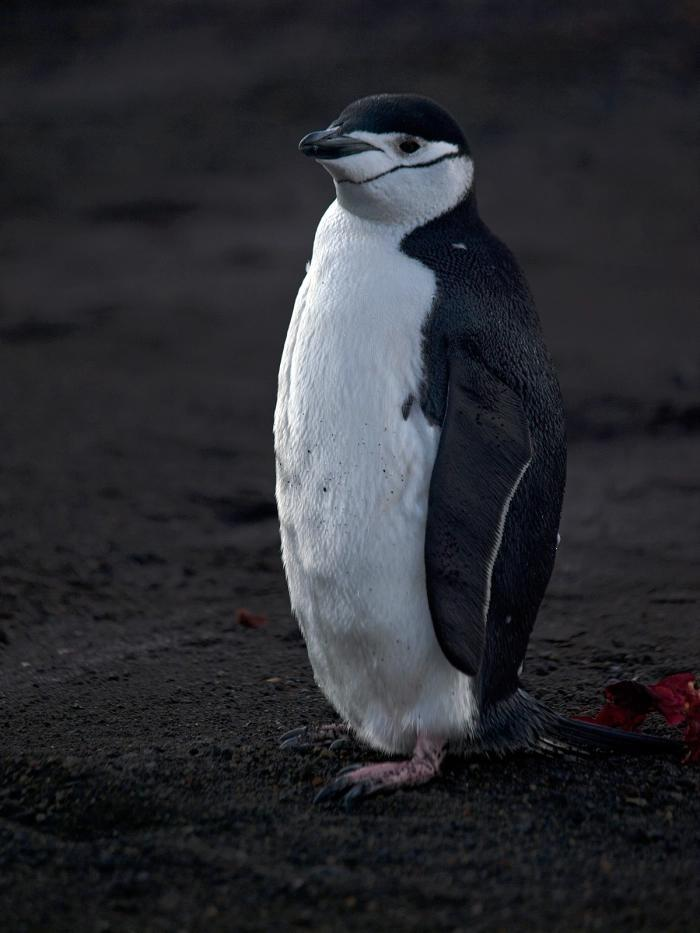Penguin: (273, 95, 670, 801)
